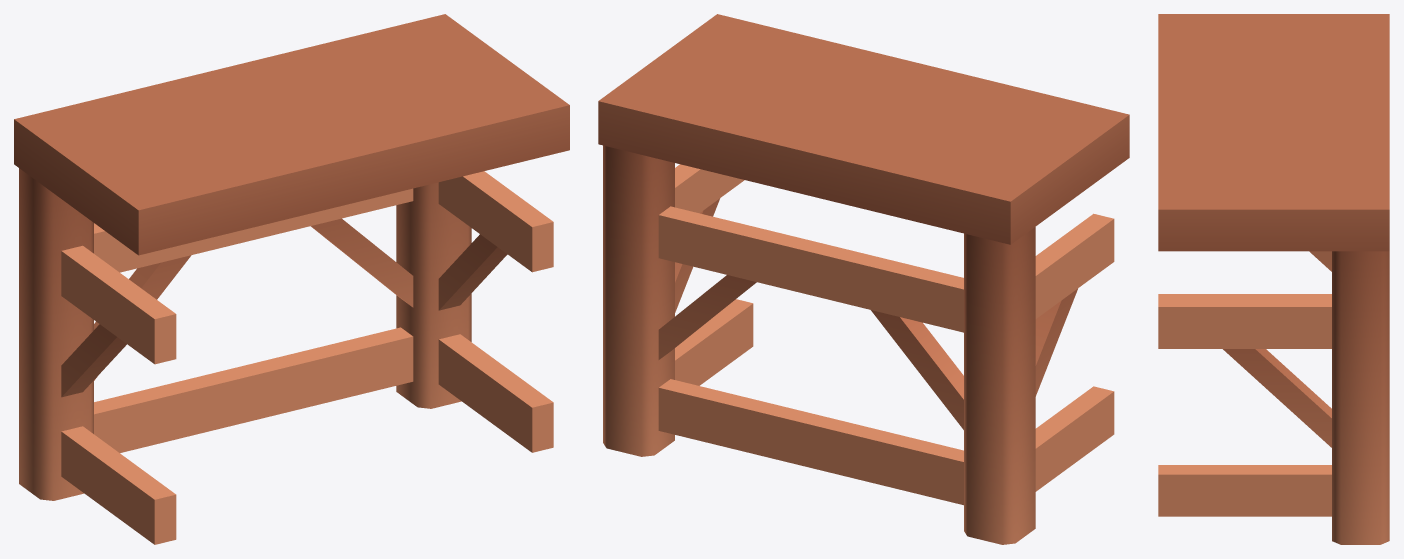
Rendered from structure-platform.fbx.
3 renders of one model, left to right at view 1: azimuth 30°, elevation 25°; view 2: azimuth 150°, elevation 25°; view 3: azimuth 270°, elevation 25°, orthographic. The views are drawn at different scales.
Parts seen in each view (by area): view 1: structure-platform; view 2: structure-platform; view 3: structure-platform.
Part boxes in pixels (x1=…): structure-platform: x1=14, y1=14, x2=569, y2=544; structure-platform: x1=598, y1=14, x2=1129, y2=544; structure-platform: x1=1158, y1=14, x2=1389, y2=544.
Size of the model in its own units: 100 by 80 by 50.
1 material, 1 textured.
